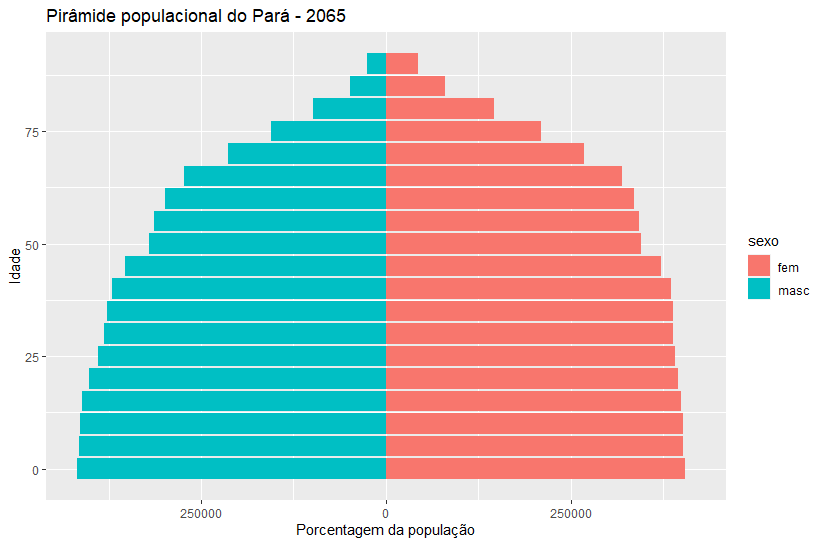

The page's visual inventory and layout, read from the dashboard file:
{"tool":"powerbi","page":{"name":"Página 2","canvas":[1280,720],"ordinal":1},"visuals":[{"type":"clusteredBarChart","fields":{"Category":["Sheet 1.Idade"],"Y":["Sum(Sheet 1.Ecuador)","Sum(Sheet 1.Togo)","Sum(Sheet 1.Greece)"]},"box":[184.2,91.2,990.1,550.1],"z":0},{"type":"textbox","box":[576.9,59.9,205.7,31.3],"z":1}]}

Visuals, with their boxes on the page's 1280x720 design canvas (x1, y1, x2, y2). These are canvas units, not pixel positions in the 824x545 screenshot, which may show the page scaled, cropped or inside an application window:
clusteredBarChart - Sheet 1.Idade x Sum(Sheet 1.Ecuador): 184 91 1174 641
textbox: 577 60 783 91
